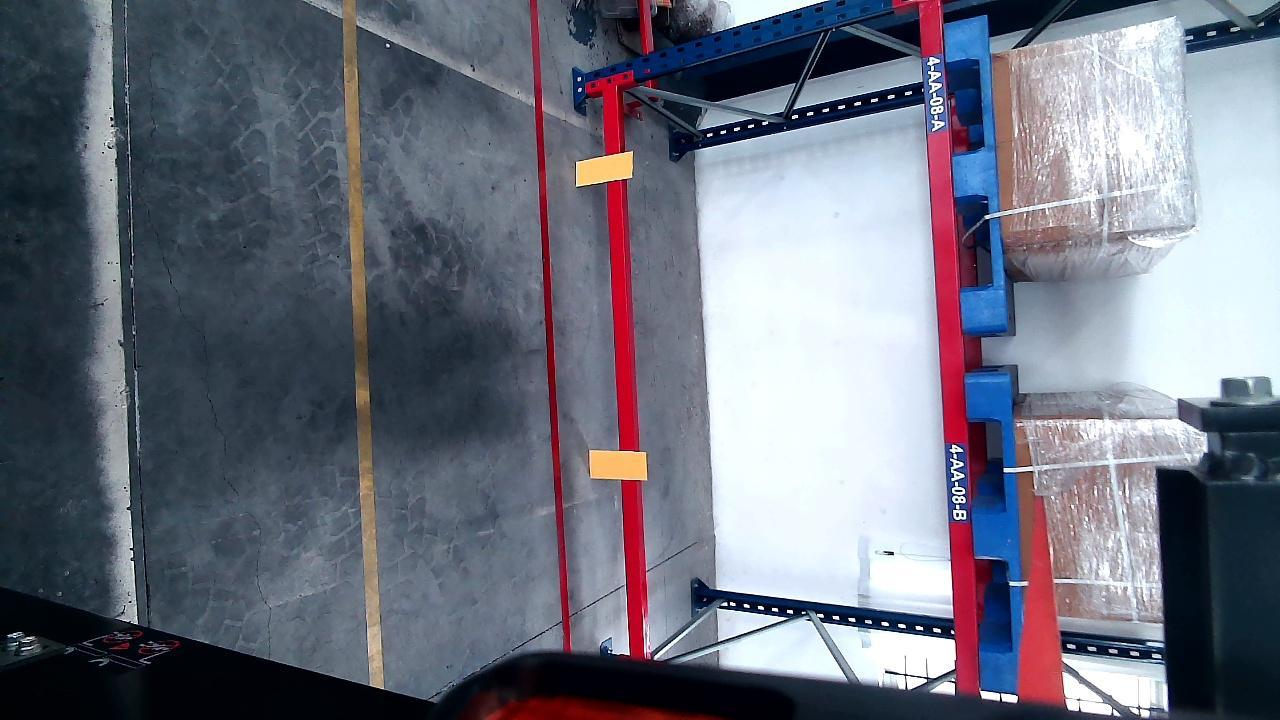red_line: (529, 1, 573, 670)
yellow_line: (343, 0, 383, 686)
